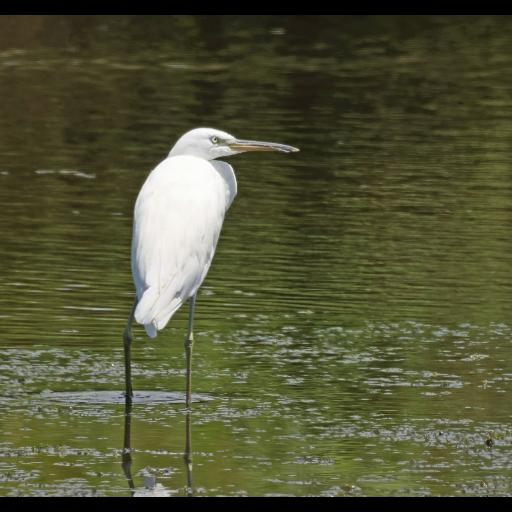chinese_egret: (120, 128, 300, 472)
